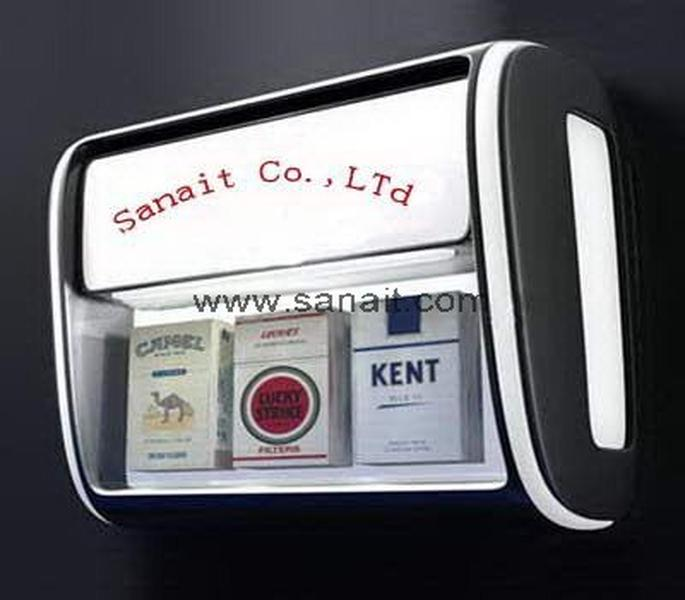lucky_strike_red: (233, 316, 328, 466)
